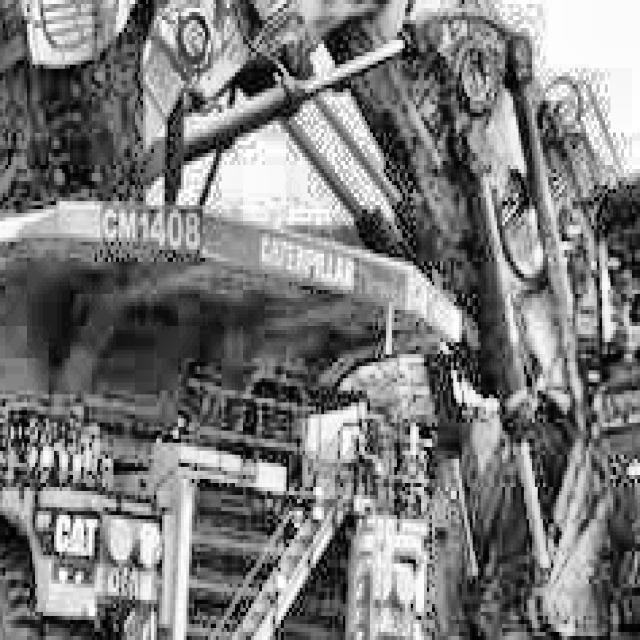dump_truck: (0, 197, 462, 640)
